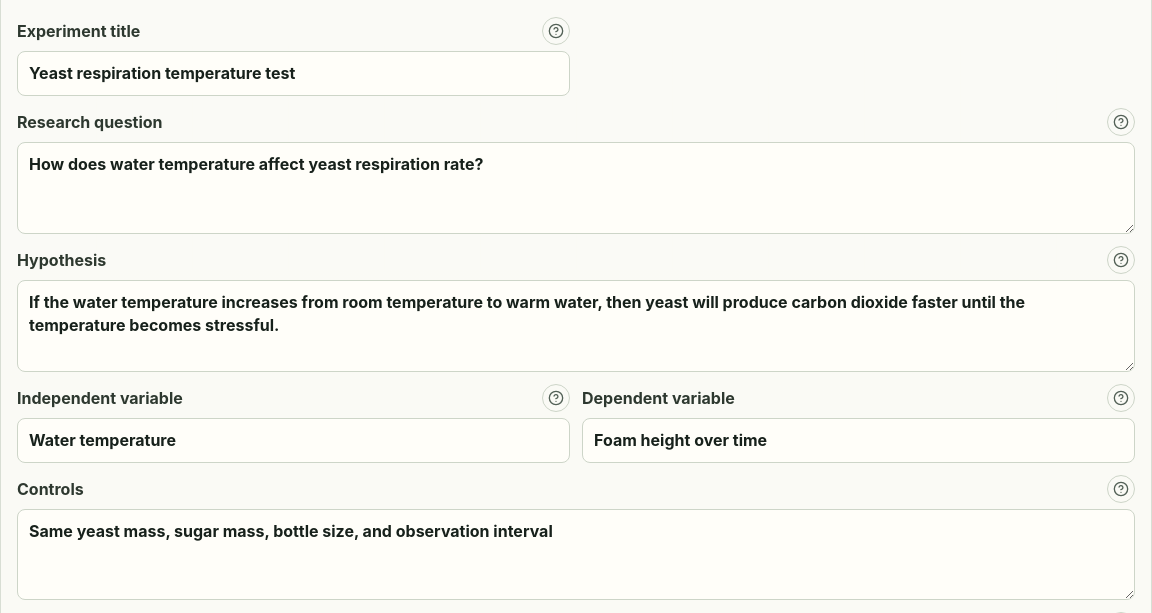
Test case: ExperimentSetup › only allows one hint open at a time so the form stays compact on phones
The image size is (1152, 613).
Click the button named "what does \"controls\" mean" at {"x": 1121, "y": 489}, box [1107,475,1135,503]
(page scrolled)
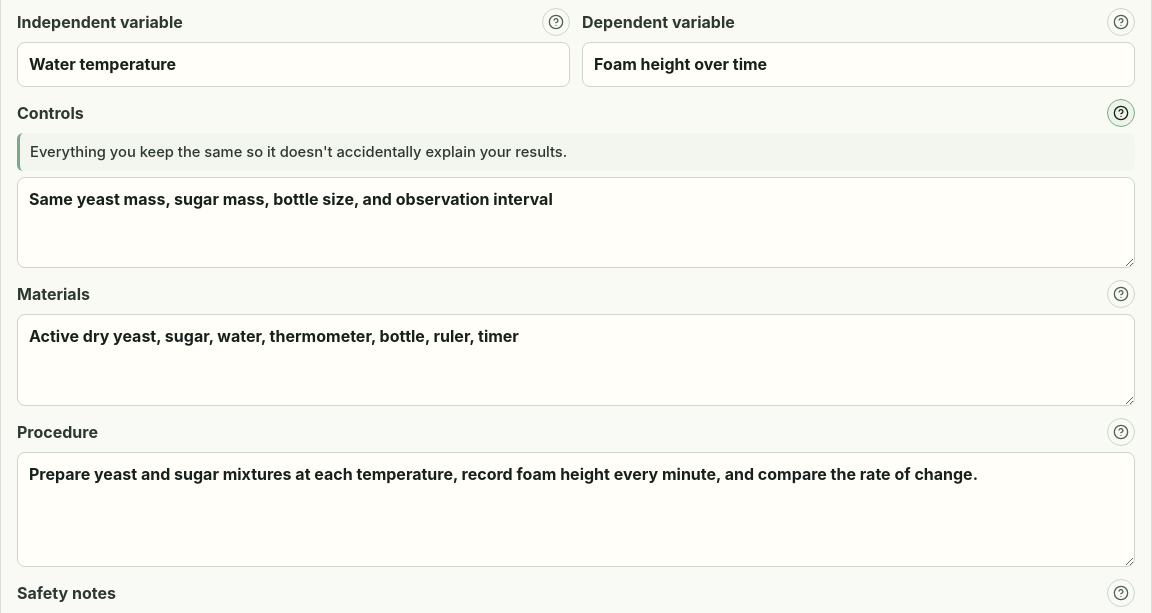
Click the button named "what does \"materials\" mean" at {"x": 1121, "y": 294}, box [1107,280,1135,308]
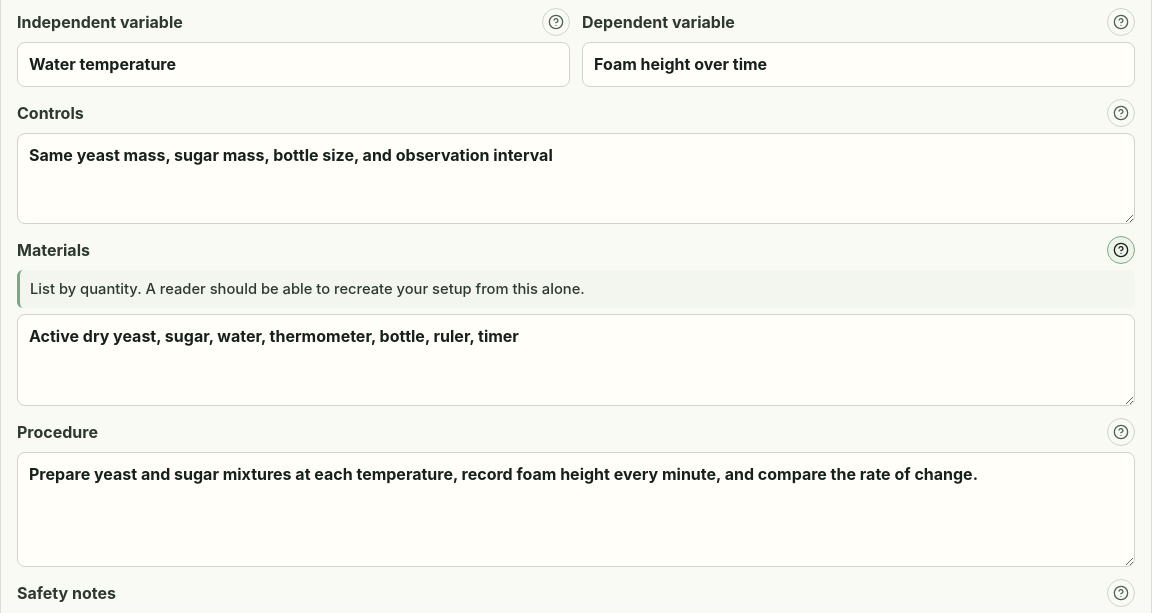
Now the text "keep the same so it doesn't accidentally" is gone
Now the text "recreate your setup from this alone" is shown, box [30,280,585,298]
